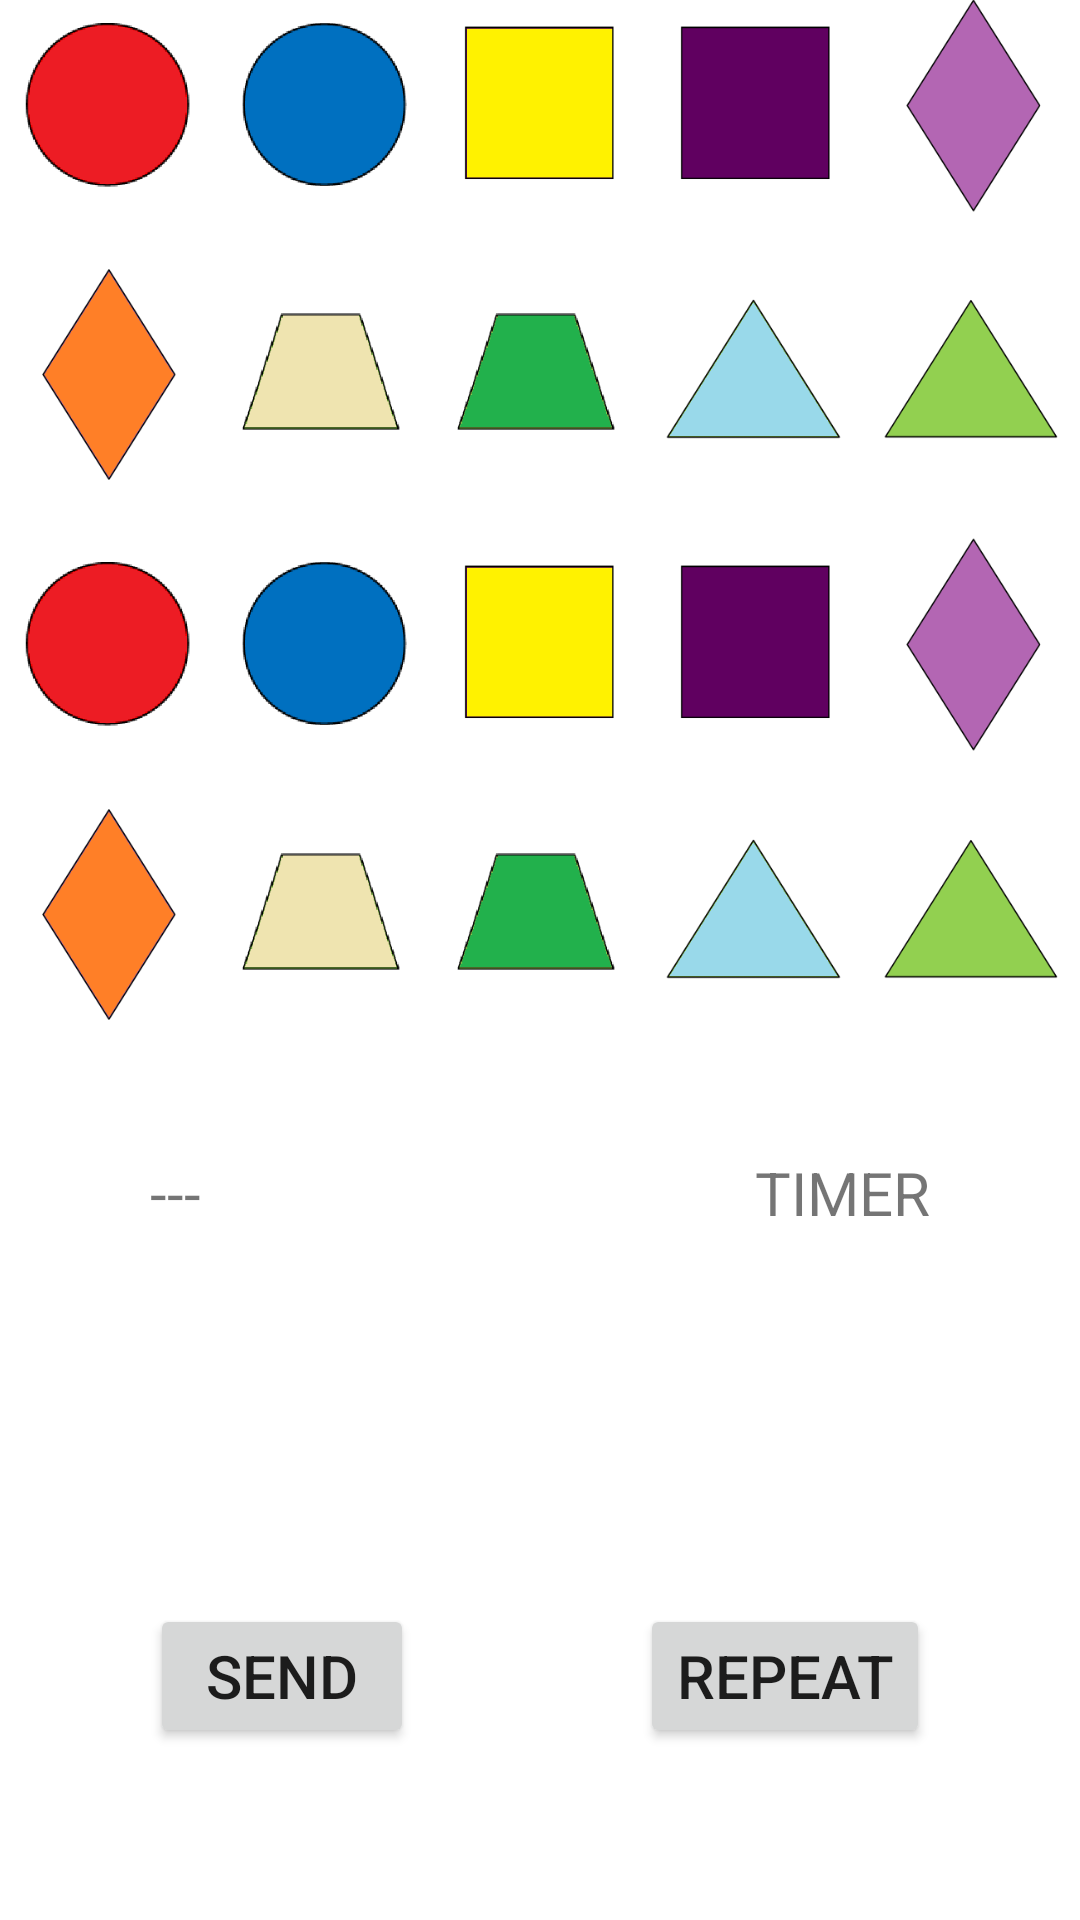

Icons on this 1080px×1920px Android screen, each with its box as (x1, y1, x2, y2):
trapecioa: (242, 313, 400, 430), (242, 853, 400, 970)
trapeciob: (457, 313, 615, 430), (457, 853, 615, 970)
trianguloa: (666, 299, 840, 439), (666, 839, 840, 979)
triangulob: (884, 300, 1058, 438), (884, 840, 1058, 978)
